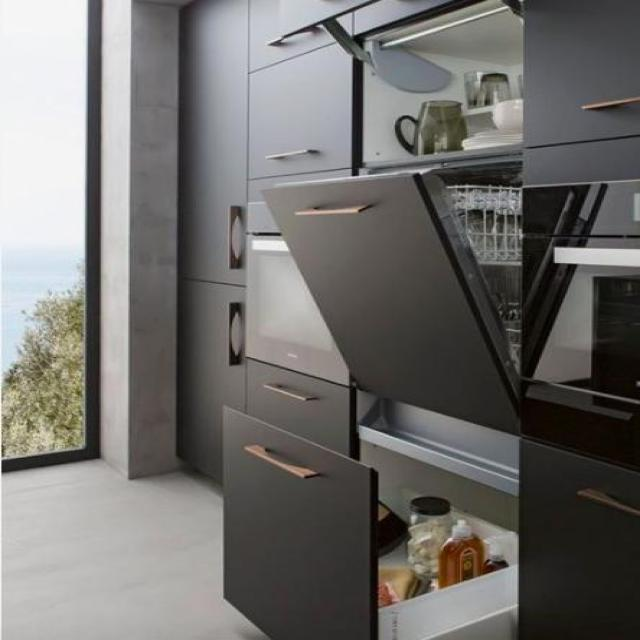dishwasher: (270, 153, 536, 426)
